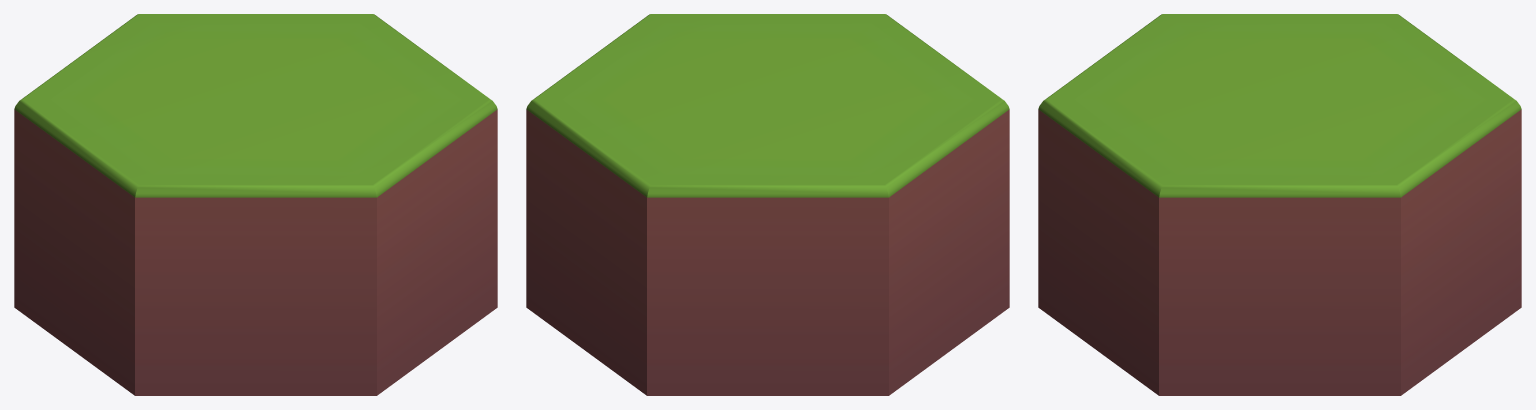
The model's file is grass.fbx.
3 views of the same model, side by side, from view 1: azimuth 30°, elevation 25°; view 2: azimuth 150°, elevation 25°; view 3: azimuth 270°, elevation 25° (orthographic).
Parts seen in each view (by area): view 1: hexagon_grass7; view 2: hexagon_grass7; view 3: hexagon_grass7.
Part boxes in pixels (x1,y1,x2,y2): hexagon_grass7: (14, 14, 497, 395); hexagon_grass7: (526, 14, 1009, 395); hexagon_grass7: (1038, 14, 1521, 395).
Size of the model in its own units: 366 by 201 by 423.
Materials: 1 (1 with a texture image).
